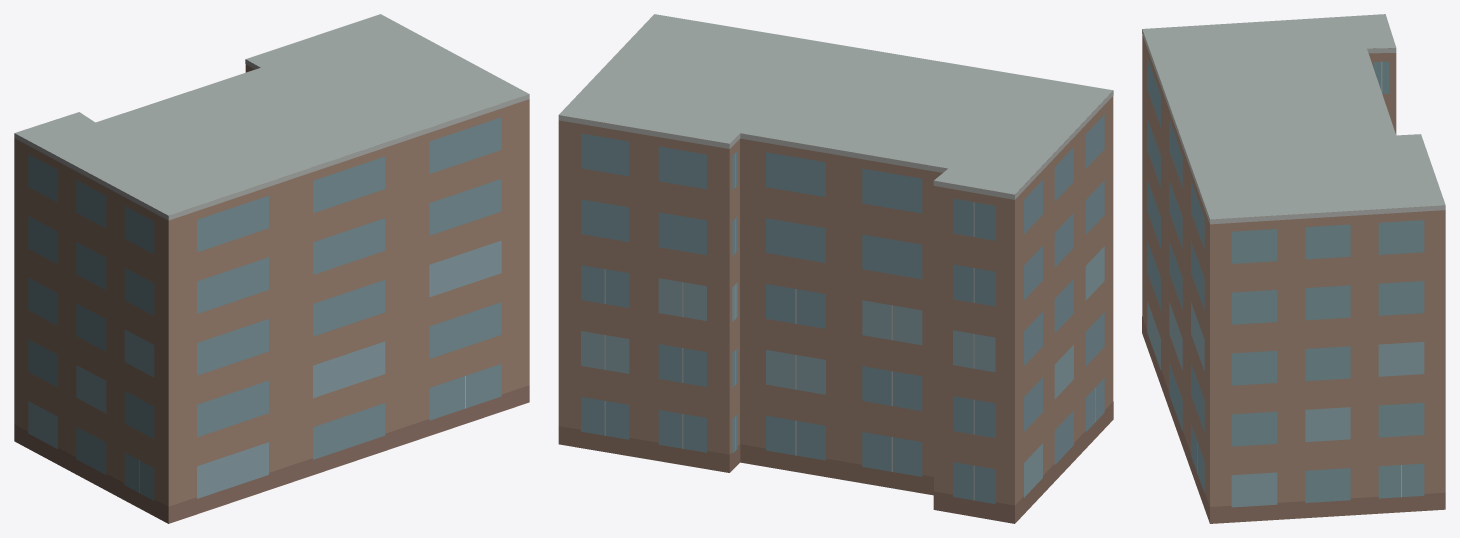
The model's file is survey-upis-32560788.glb.
3 views of the same model, side by side, from view 1: azimuth 30°, elevation 25°; view 2: azimuth 150°, elevation 25°; view 3: azimuth 270°, elevation 25° (orthographic). The views are drawn at different scales.
Parts seen in each view (by area): view 1: survey-upis-32560788.tmp; view 2: survey-upis-32560788.tmp; view 3: survey-upis-32560788.tmp.
Part boxes in pixels (<box>): survey-upis-32560788.tmp: <box>14,14,529,523</box>; survey-upis-32560788.tmp: <box>558,14,1113,523</box>; survey-upis-32560788.tmp: <box>1142,14,1445,523</box>.
Size of the model in its own units: 22.09 by 15.25 by 13.79.
